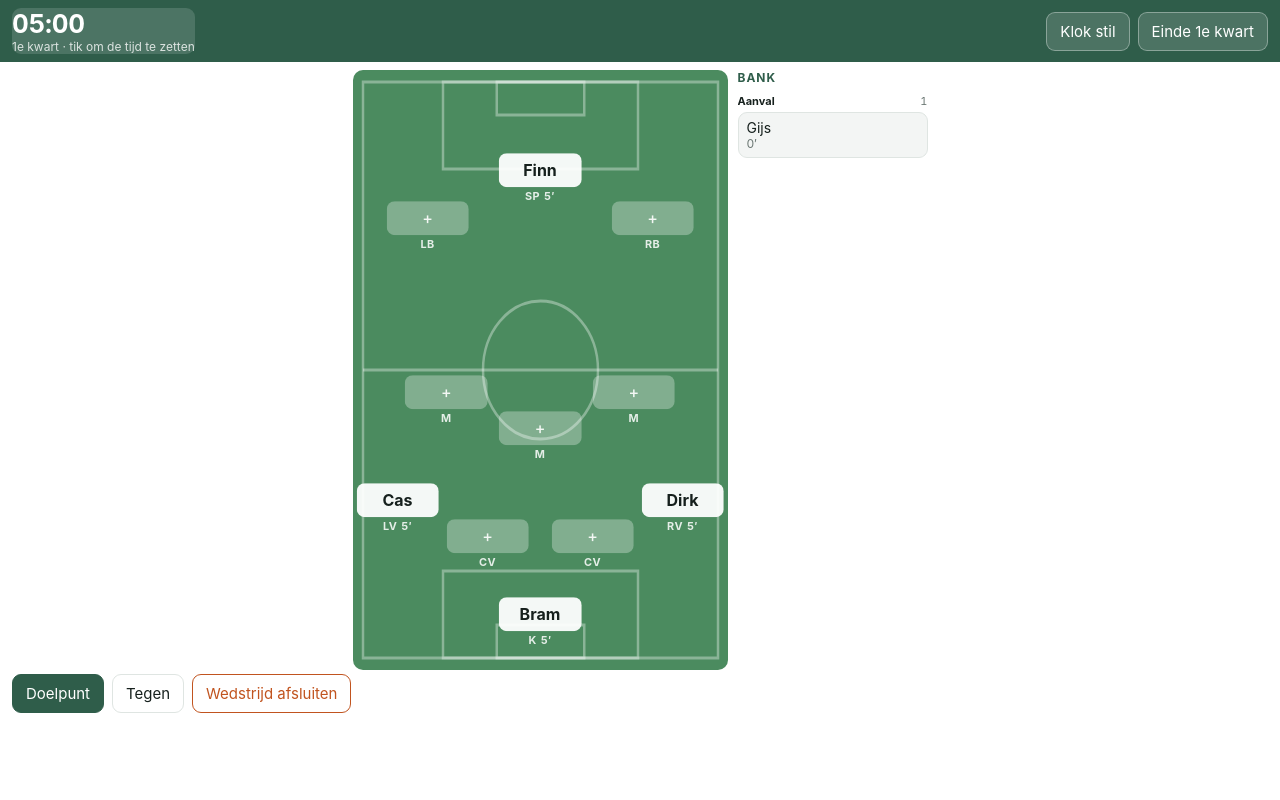
het wedstrijdscherm tijdens een wedstrijd › zet de klok op een hele minuut
Click the button with class "kloktik" at (103, 31), box [12, 8, 195, 54]
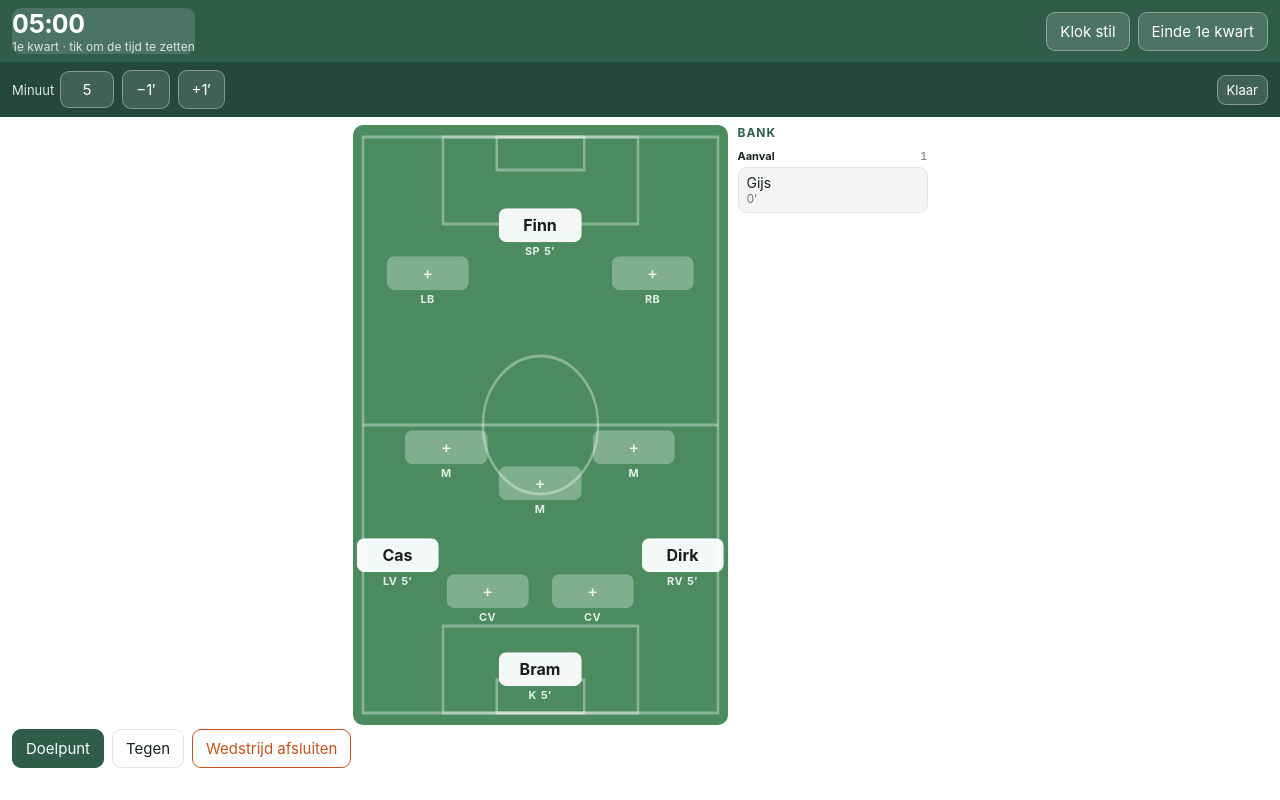
Replace the text in the number field labelled "Minuut" with "22" at (87, 90), box [60, 71, 114, 108]
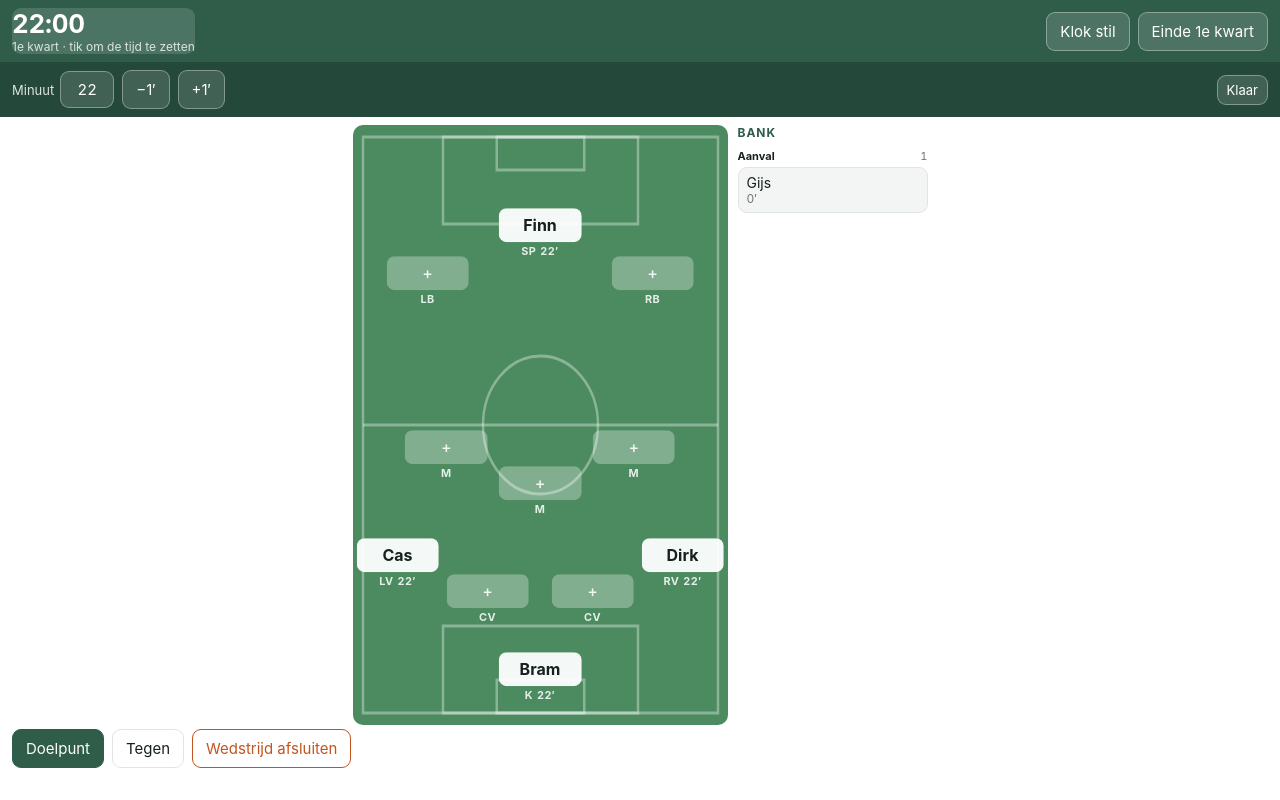
Expected: the text with class "klok" reads "22:00", [12, 8, 85, 39]
